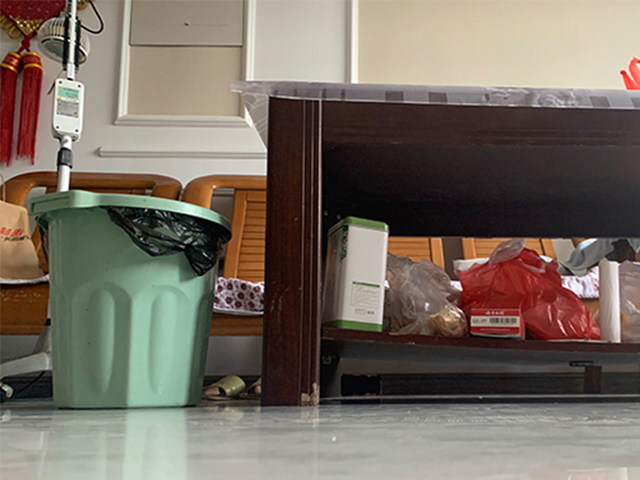slippers: (203, 373, 248, 402)
table: (233, 80, 640, 406)
trashcan: (27, 190, 235, 411)
